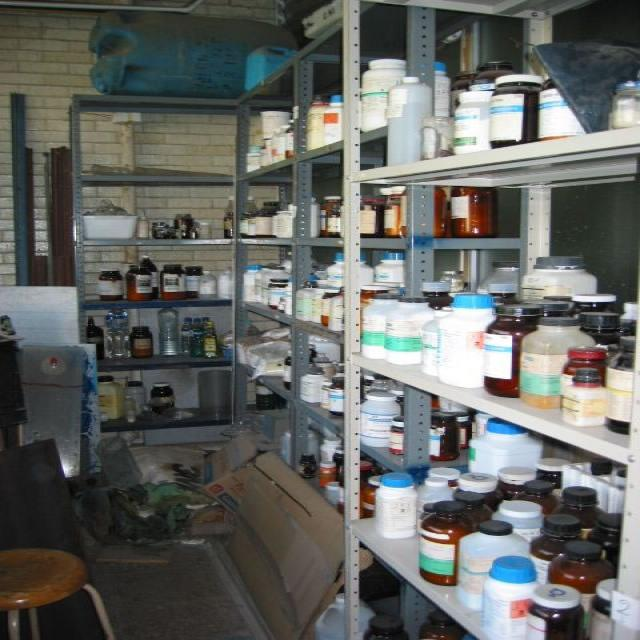bottle crop: (385, 76, 432, 163), (107, 301, 128, 356), (157, 304, 179, 355)
flask crop: (560, 369, 607, 426)
floor -X: (1, 503, 305, 637)
jar -X: (447, 519, 528, 610), (519, 315, 596, 407), (437, 292, 495, 387), (483, 303, 540, 396), (417, 499, 472, 584), (488, 73, 541, 146), (381, 296, 432, 364), (373, 470, 419, 537), (420, 303, 452, 375), (159, 262, 185, 299), (127, 263, 152, 299), (129, 324, 149, 357)
jar of beans: (519, 253, 596, 299), (453, 91, 491, 152)
jars: (239, 263, 293, 313), (295, 281, 344, 330)
shelves crop: (72, 0, 639, 638)
stool occluded: (1, 544, 113, 636)
wall clock: (1, 0, 336, 504)
